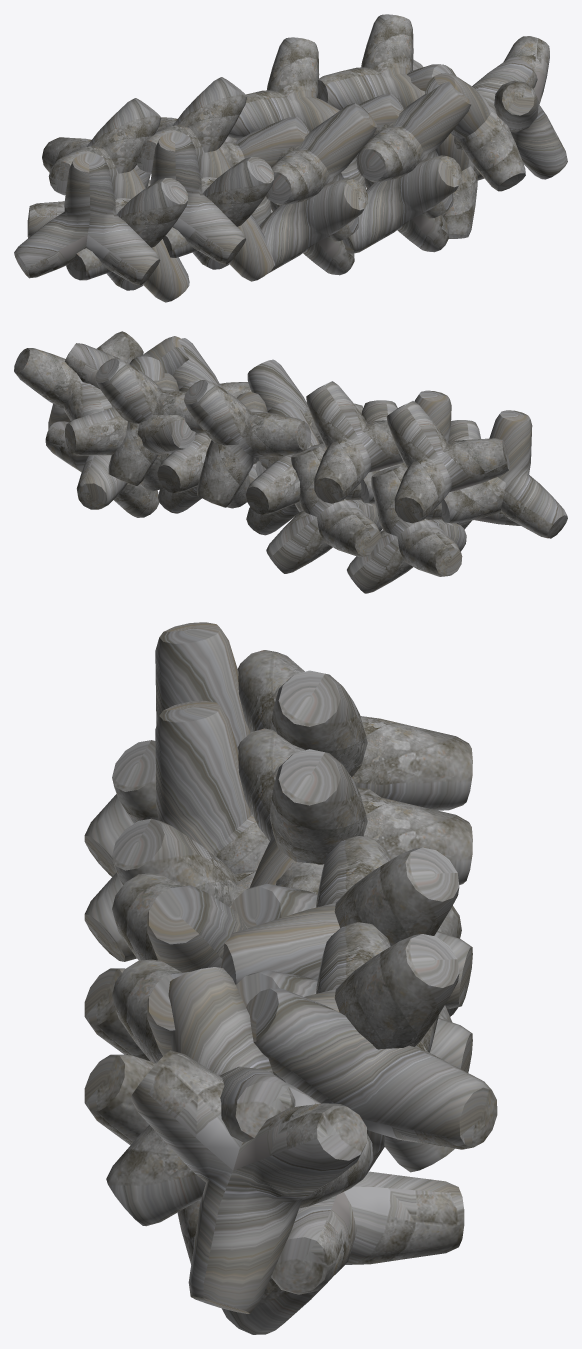
The model's file is lgptrntetrapod.FBX.
The picture shows the model from 3 angles, top to bottom: view 1: azimuth 30°, elevation 25°; view 2: azimuth 150°, elevation 25°; view 3: azimuth 270°, elevation 25°; orthographic projection. The views are drawn at different scales.
Parts seen in each view (by area): view 1: Object004; view 2: Object004; view 3: Object004.
Boxes of the visible parts, x1,y1,x2,y2 form: Object004: [14, 14, 567, 302]; Object004: [14, 331, 567, 593]; Object004: [84, 622, 497, 1334].
Bounding box in the file's own units: 945 × 331 × 323.
